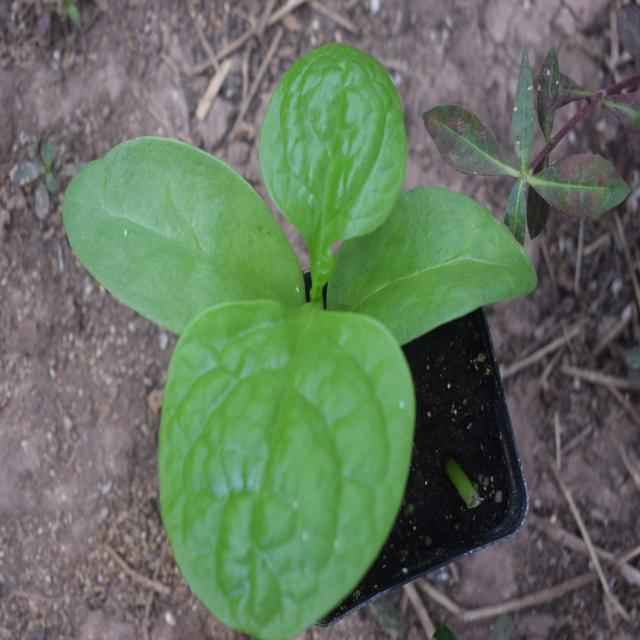Ceylon spinach: (89, 76, 535, 602)
